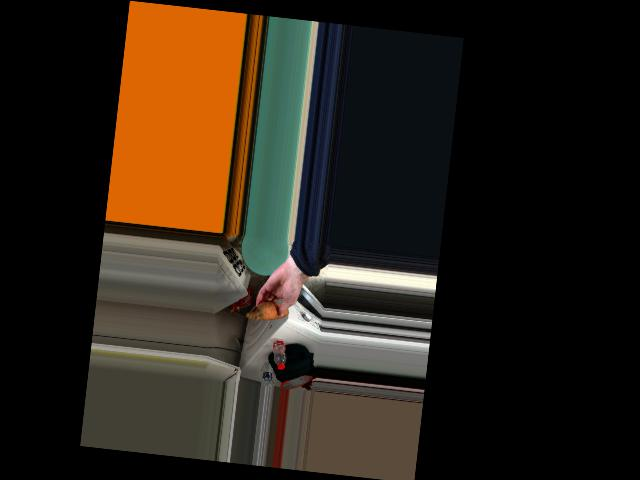sweet_potato: (254, 301, 287, 323)
